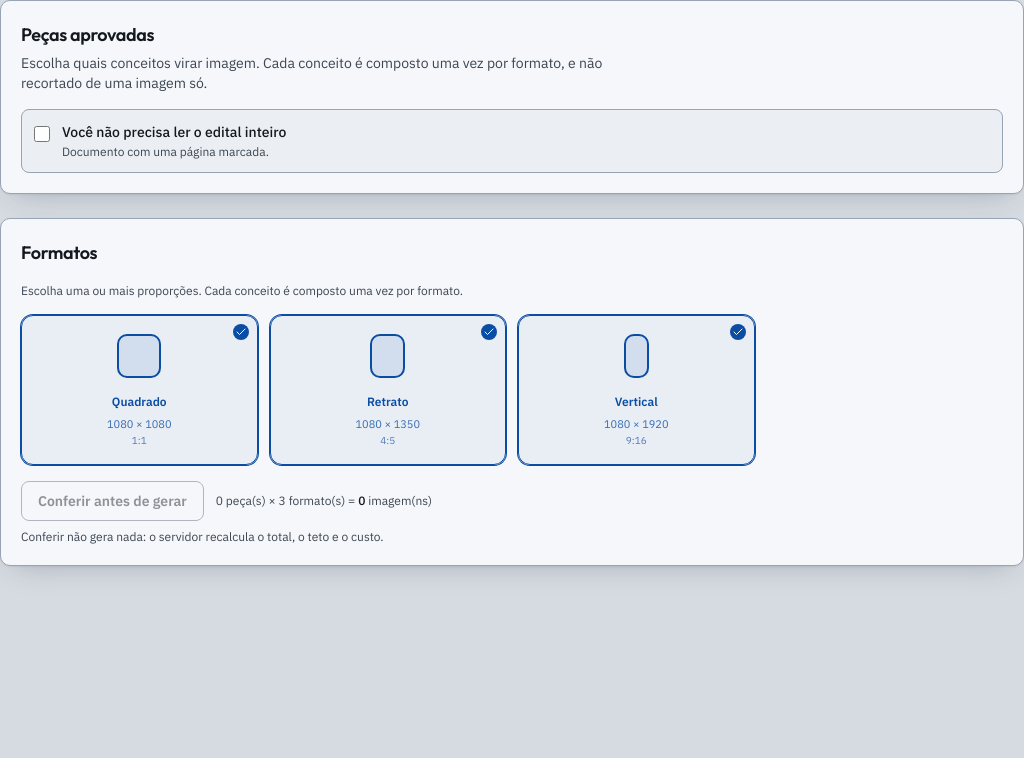
a produção mostra o preço antes do botão › custo desconhecido vira ausência declarada, nunca US$ 0,00
This screenshot has width=1024, height=758.
Click the checkbox. click: (42,134)
box: 34,126 -> 50,142
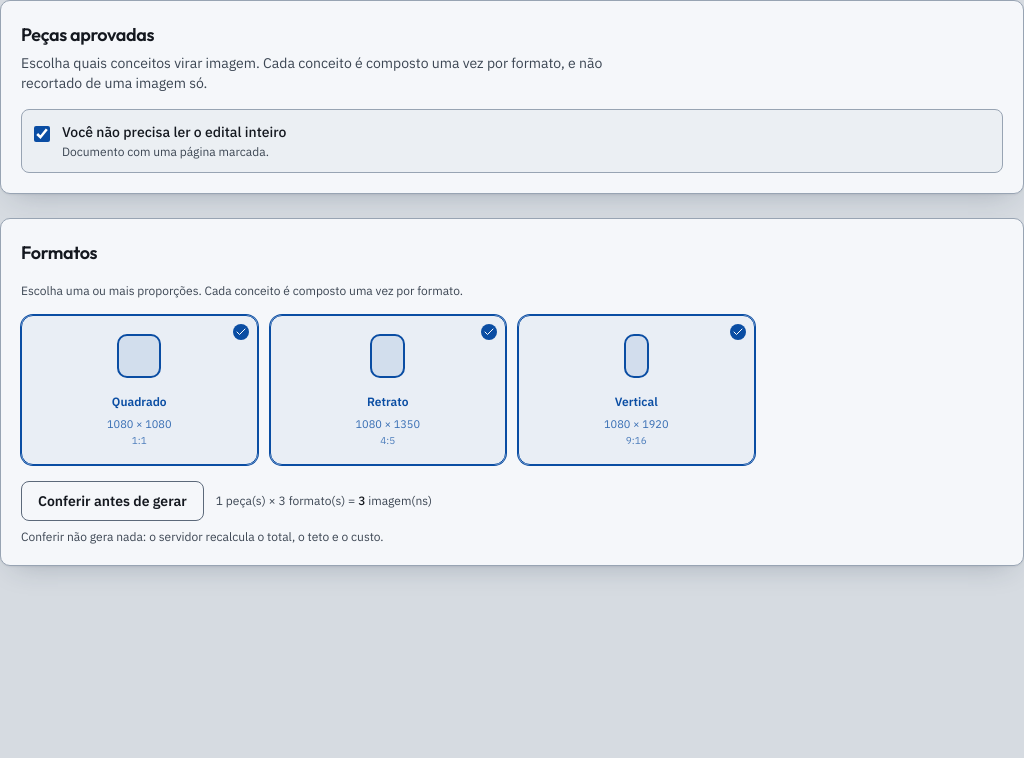
Click the button "Conferir antes de gerar". click: (112,500)
box: 21,480 -> 204,520
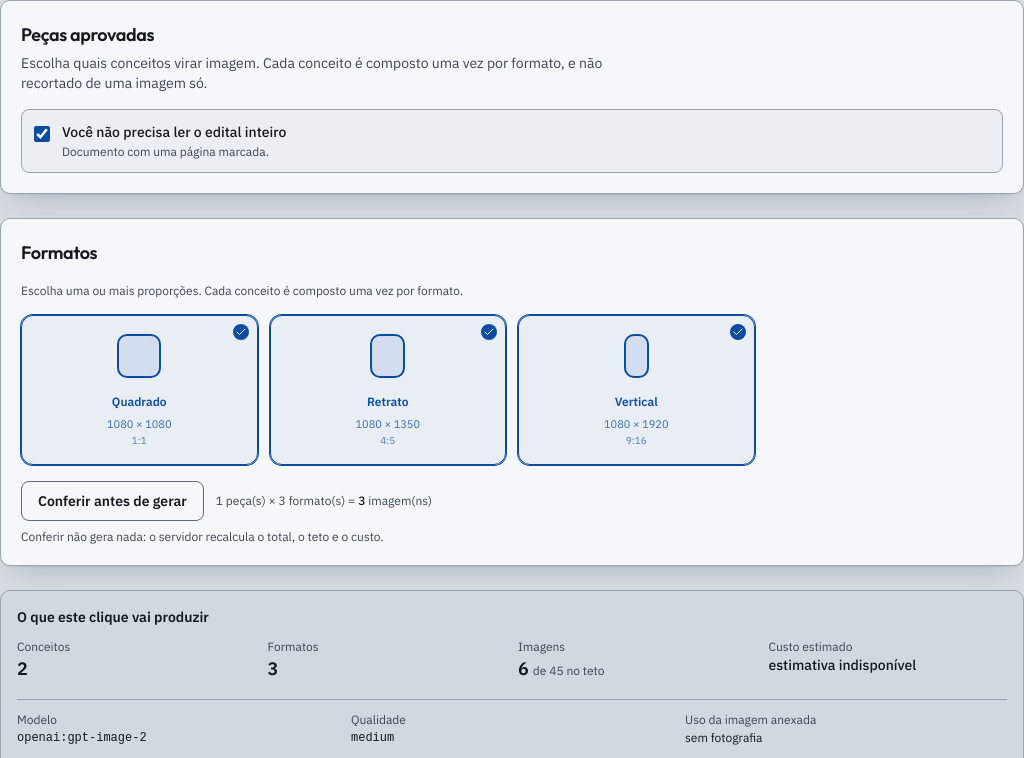
Expected: the text "estimativa indisponível" is shown, 768,656 -> 916,674
